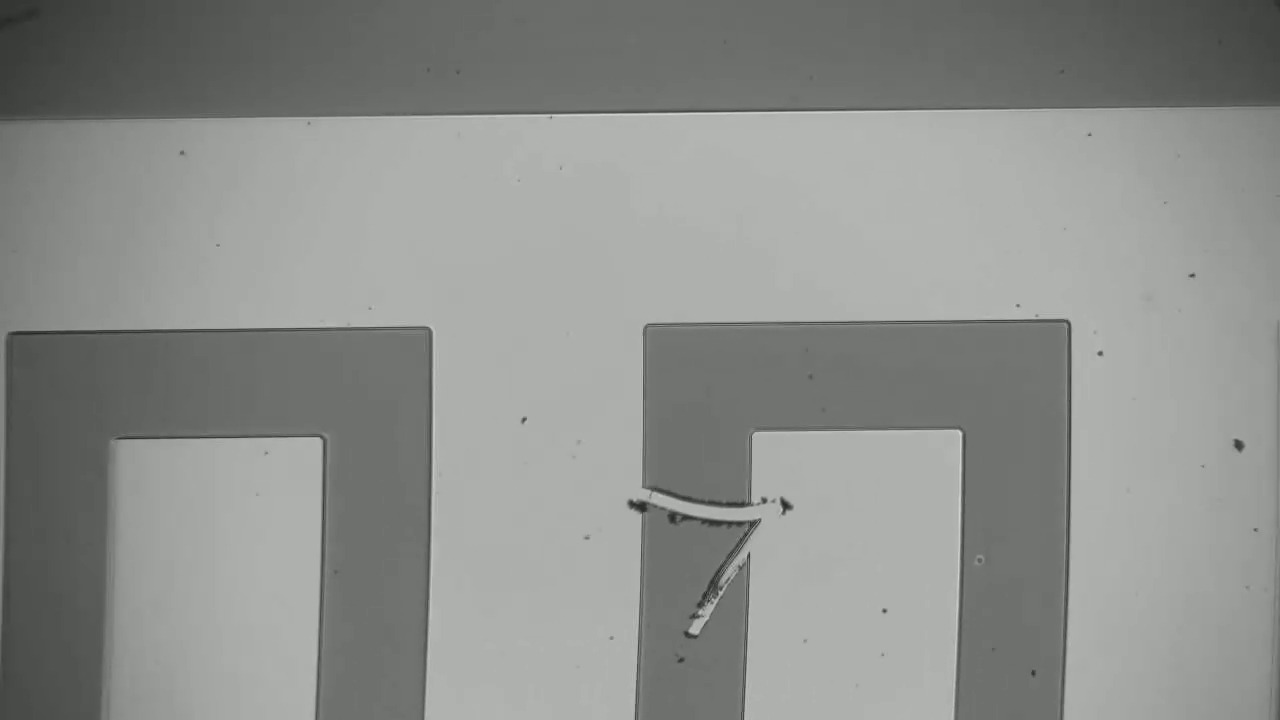Short_circuit: (614, 460, 802, 555)
